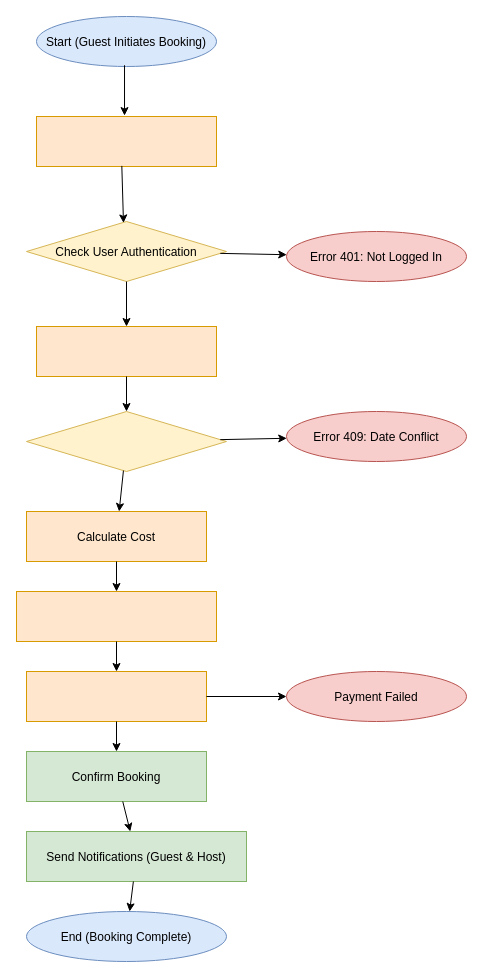
The diagram is 483 pixels wide and 978 high, and some of its shapes have lost their labels. Each missing label, with the centre of its shape:
"Create Booking Request" goes at (116,616).
"Process Payment" goes at (116,696).
"Property Available for Dates?" goes at (126,441).
"Receive Booking Request" goes at (126,141).
"validate Property Details" goes at (126,351).
